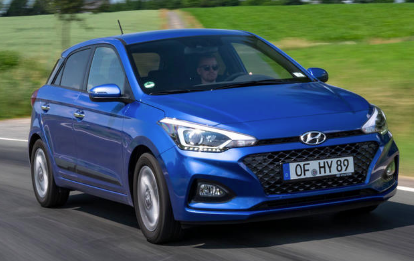car: (25, 27, 401, 246)
